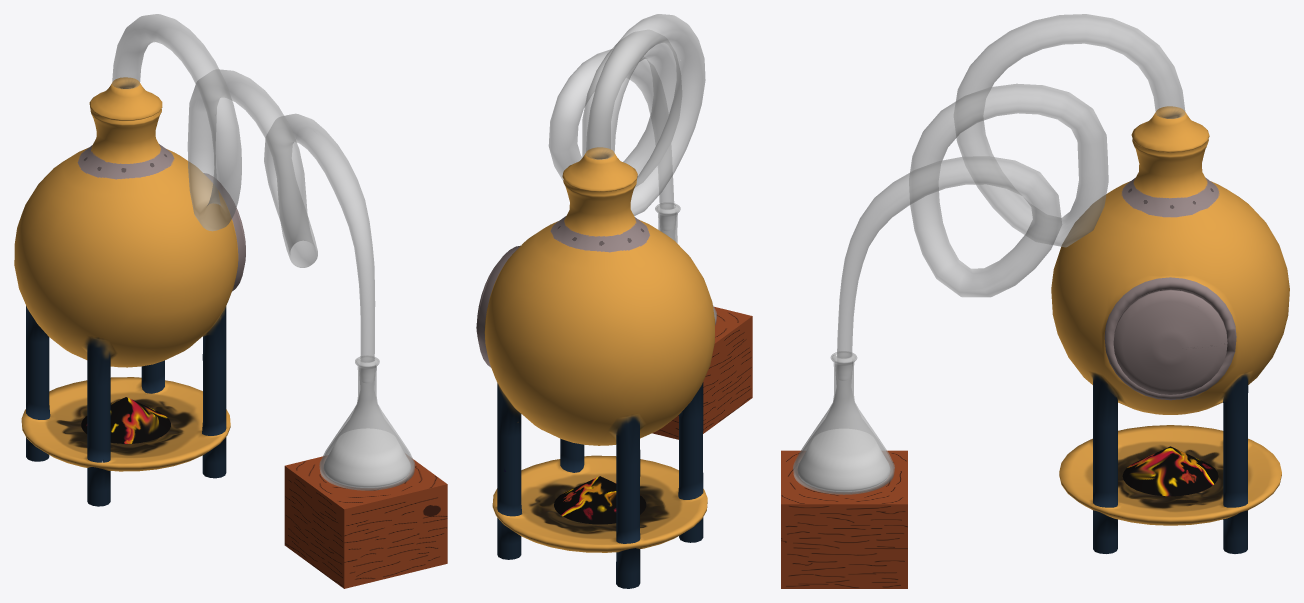
File: Distiller.glb
The picture shows the model from 3 angles, left to right: view 1: azimuth 30°, elevation 25°; view 2: azimuth 150°, elevation 25°; view 3: azimuth 270°, elevation 25°; orthographic projection. The views are drawn at different scales.
Parts seen in each view (by area): view 1: RetopodDistiller, CondensingPipe, Stand, Beaker, Mixture, Burner; view 2: RetopodDistiller, CondensingPipe, Stand, Burner, Beaker; view 3: RetopodDistiller, CondensingPipe, Stand, Hatch, Beaker, Mixture, Burner.
Boxes of the visible parts, x1,y1,x2,y2 form: RetopodDistiller: (14, 77, 244, 506); CondensingPipe: (112, 14, 375, 382); Stand: (284, 456, 447, 588); Beaker: (319, 355, 415, 490); Mixture: (324, 428, 410, 487); Burner: (81, 397, 170, 443); RetopodDistiller: (476, 147, 714, 588); CondensingPipe: (548, 14, 705, 230); Stand: (652, 306, 752, 439); Burner: (554, 476, 646, 524); Beaker: (655, 202, 716, 324); RetopodDistiller: (1051, 106, 1289, 553); CondensingPipe: (837, 14, 1185, 380); Stand: (781, 450, 907, 588); Hatch: (1113, 289, 1227, 394); Beaker: (793, 351, 894, 494); Mixture: (797, 429, 890, 491); Burner: (1122, 446, 1218, 496).
Bounding box in the file's own units: 2.54 × 4.9 × 4.47.
7 materials, 6 textured.
